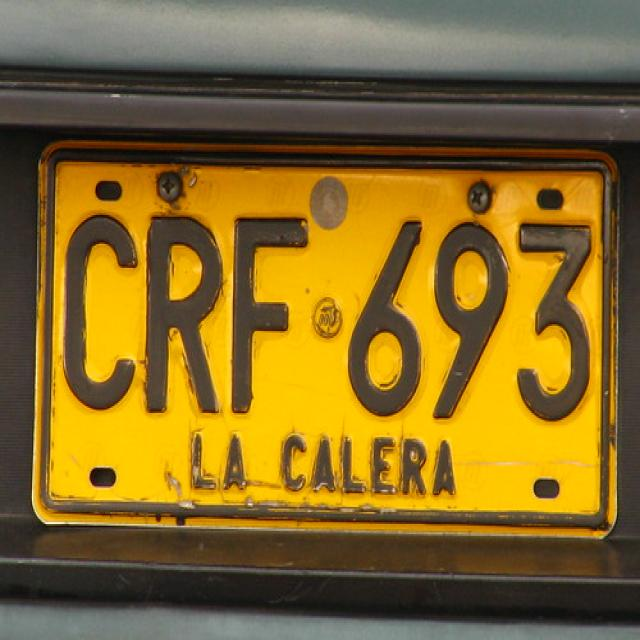placas: (52, 153, 607, 427)
